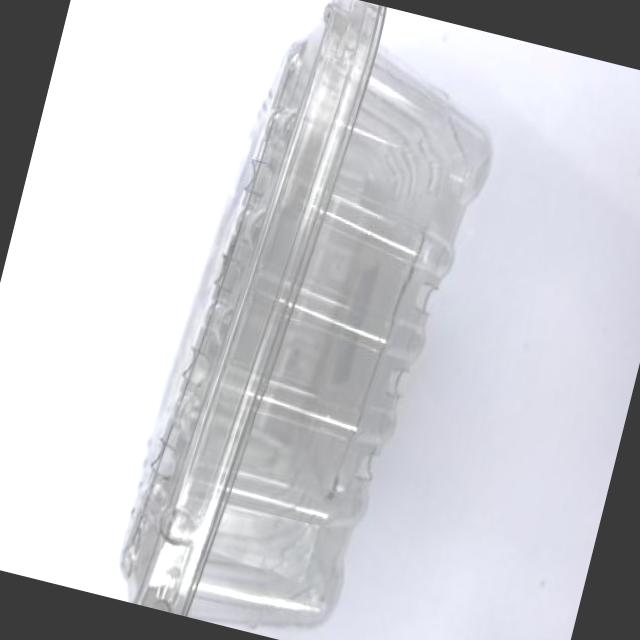Recycle: (103, 0, 522, 640)
